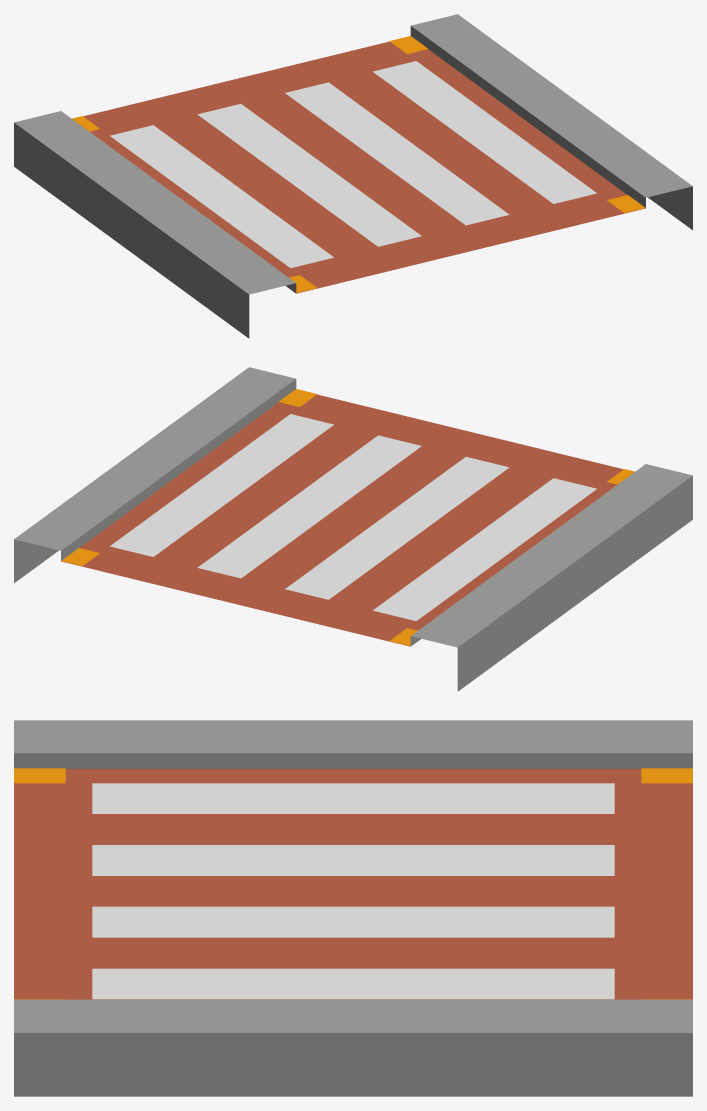
File: Road_A_11.fbx
3 views of the same model, one above another, from view 1: azimuth 30°, elevation 25°; view 2: azimuth 150°, elevation 25°; view 3: azimuth 270°, elevation 25° (orthographic). The views are drawn at different scales.
Visible parts, largest first — view 1: Road_A_11; view 2: Road_A_11; view 3: Road_A_11.
Part boxes in pixels (x1=…): Road_A_11: x1=14, y1=14, x2=692, y2=338; Road_A_11: x1=14, y1=367, x2=692, y2=691; Road_A_11: x1=14, y1=720, x2=692, y2=1096.
Bounding box in the file's own units: 436 × 41.48 × 400.
